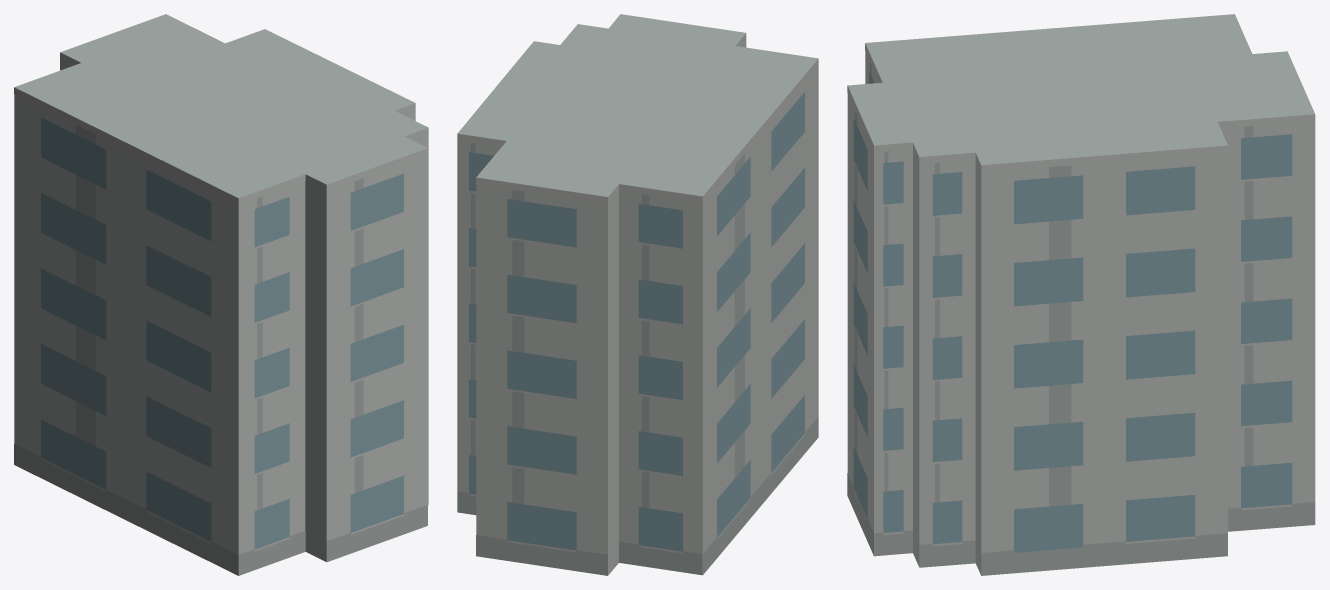
Rendered from survey-upis-32704745.glb.
3 views of the same model, side by side, from view 1: azimuth 30°, elevation 25°; view 2: azimuth 150°, elevation 25°; view 3: azimuth 270°, elevation 25° (orthographic). The views are drawn at different scales.
Visible parts, largest first — view 1: survey-upis-32704745.tmp; view 2: survey-upis-32704745.tmp; view 3: survey-upis-32704745.tmp.
Boxes of the visible parts, x1=… form: survey-upis-32704745.tmp: x1=14, y1=14, x2=428, y2=575; survey-upis-32704745.tmp: x1=457, y1=14, x2=818, y2=575; survey-upis-32704745.tmp: x1=847, y1=14, x2=1315, y2=575.
Size of the model in its own units: 10.67 by 13.5 by 13.95.
